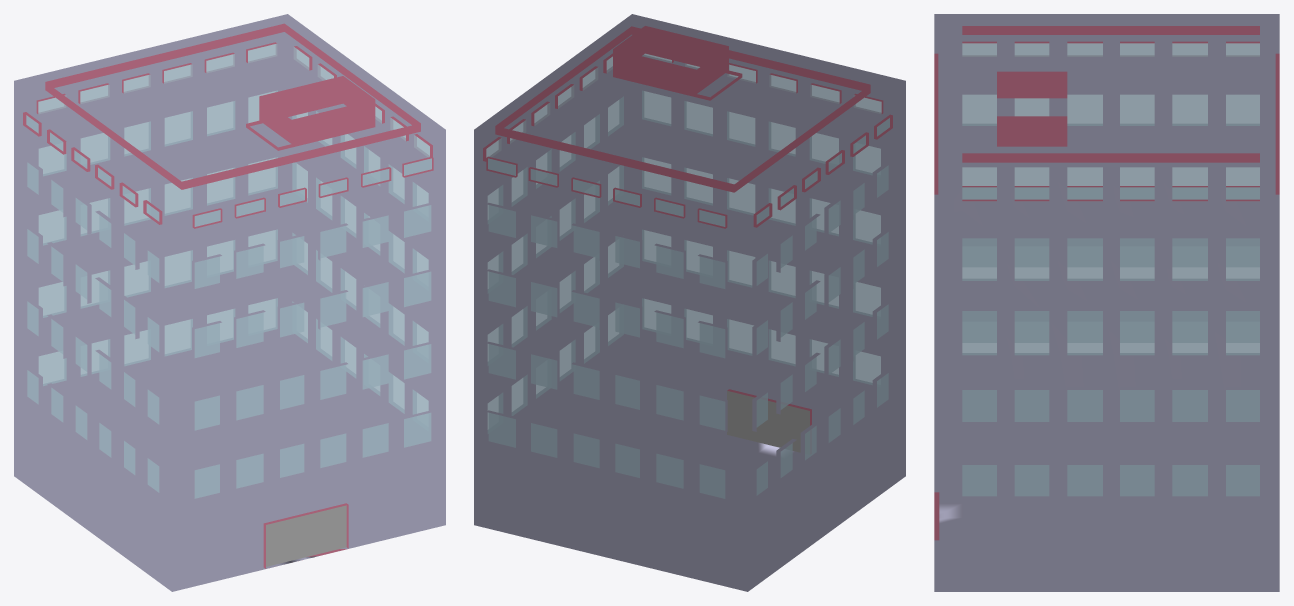
The picture shows the model from 3 angles, left to right: view 1: azimuth 30°, elevation 25°; view 2: azimuth 150°, elevation 25°; view 3: azimuth 270°, elevation 25°; orthographic projection. The views are drawn at different scales.
Parts seen in each view (by area): view 1: Cube.025; view 2: Cube.025; view 3: Cube.025.
Boxes of the visible parts, x1,y1,x2,y2 form: Cube.025: (14,14,445,591); Cube.025: (474,14,905,591); Cube.025: (934,14,1279,591).
Size of the model in its own units: 55.15 by 79.89 by 55.15.
